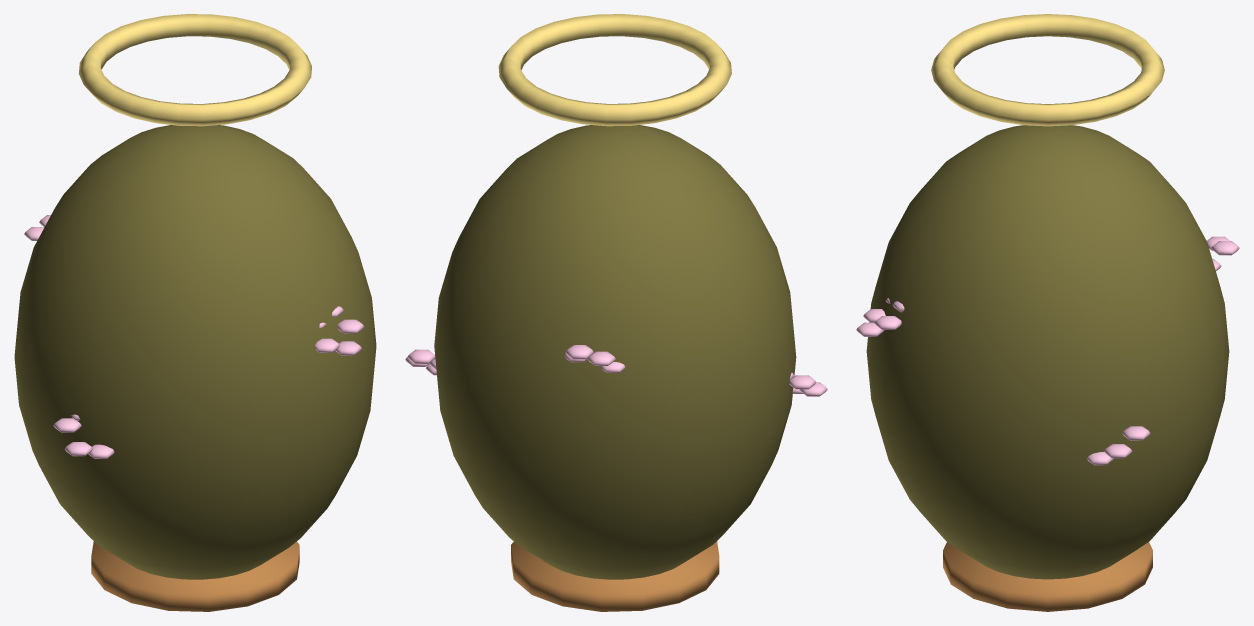
Rendered from egg_volcano_09.glb.
3 views of the same model, side by side, from view 1: azimuth 30°, elevation 25°; view 2: azimuth 150°, elevation 25°; view 3: azimuth 270°, elevation 25° (orthographic).
Parts seen in each view (by area): view 1: ball; view 2: ball; view 3: ball.
Part boxes in pixels (box(x1,y1,x2,y2)): ball: box(14, 14, 376, 611); ball: box(405, 14, 827, 611); ball: box(856, 14, 1239, 611).
Bounding box in the file's own units: 0.8208 × 1.17 × 0.8038.
